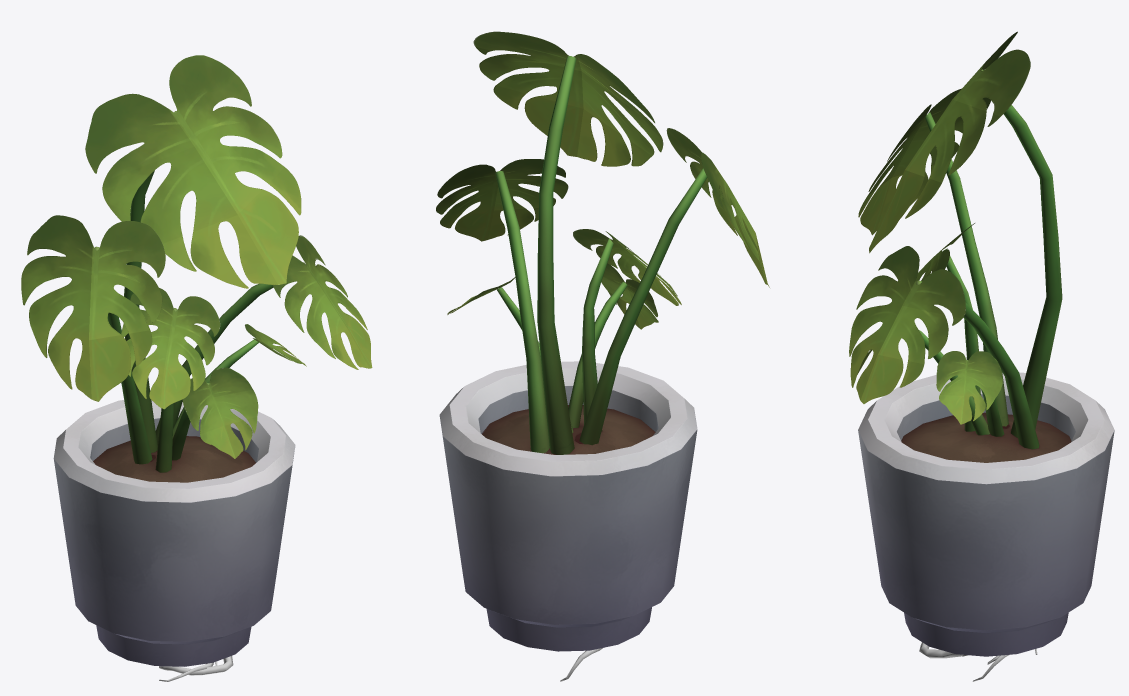
Rendered from MDL_MonsteraRootCheck.fbx.
The picture shows the model from 3 angles, left to right: view 1: azimuth 30°, elevation 25°; view 2: azimuth 150°, elevation 25°; view 3: azimuth 270°, elevation 25°; orthographic projection. The views are drawn at different scales.
Parts seen in each view (by area): view 1: MDL_MonsteraRootcheck; view 2: MDL_MonsteraRootcheck; view 3: MDL_MonsteraRootcheck.
Boxes of the visible parts, left/top/right/bottom form: MDL_MonsteraRootcheck: left=21, top=55, right=372, bottom=681; MDL_MonsteraRootcheck: left=436, top=31, right=769, bottom=681; MDL_MonsteraRootcheck: left=849, top=31, right=1114, bottom=681.
Bounding box in the file's own units: 110 × 178 × 73.66.
